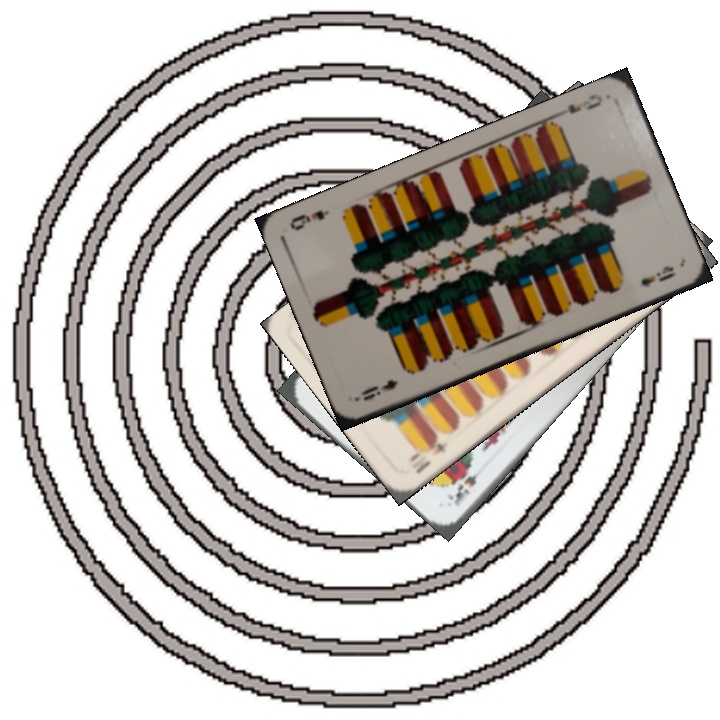E10: (405, 432, 451, 464)
E9: (553, 89, 605, 119), (357, 375, 401, 403)
SK: (442, 460, 490, 509)
